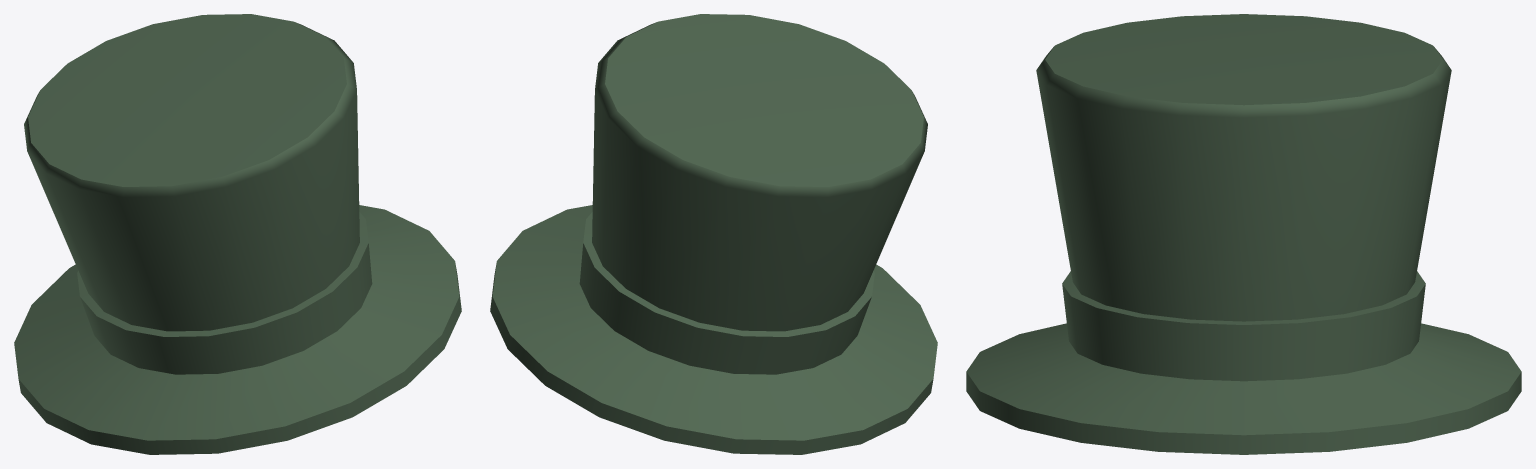
Rendered from Top Hat.fbx.
The picture shows the model from 3 angles, left to right: view 1: azimuth 30°, elevation 25°; view 2: azimuth 150°, elevation 25°; view 3: azimuth 270°, elevation 25°; orthographic projection. The views are drawn at different scales.
Parts seen in each view (by area): view 1: polySurface427; view 2: polySurface427; view 3: polySurface427.
Boxes of the visible parts, box(x1,y1,x2,y2) form: polySurface427: box(14, 14, 461, 454); polySurface427: box(490, 14, 937, 454); polySurface427: box(966, 14, 1521, 454).
Bounding box in the file's own units: 0.0603 × 0.0473 × 0.0612.
